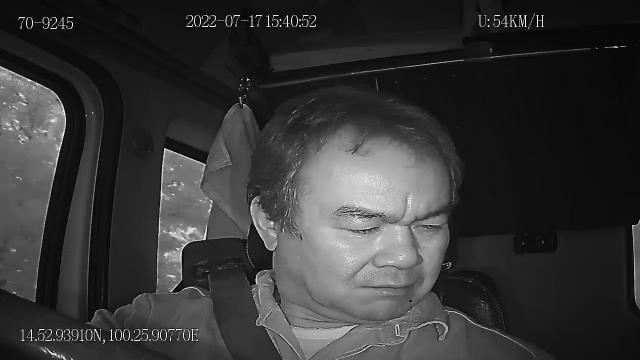SafeDriving: (330, 204, 389, 238), (405, 210, 452, 236)
Seatbelt: (207, 264, 286, 360)
